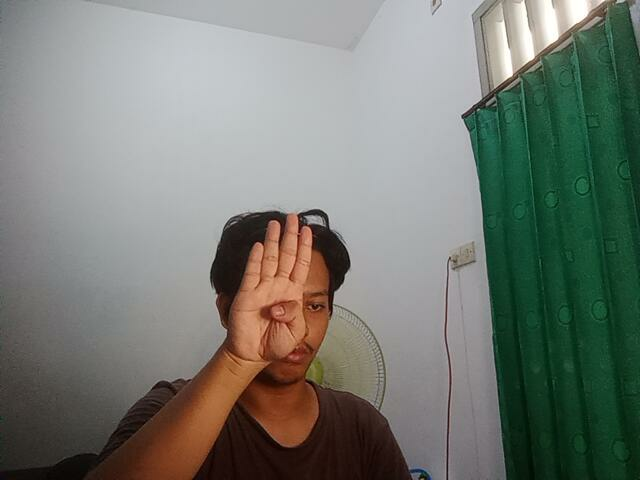B: (226, 208, 309, 366)
